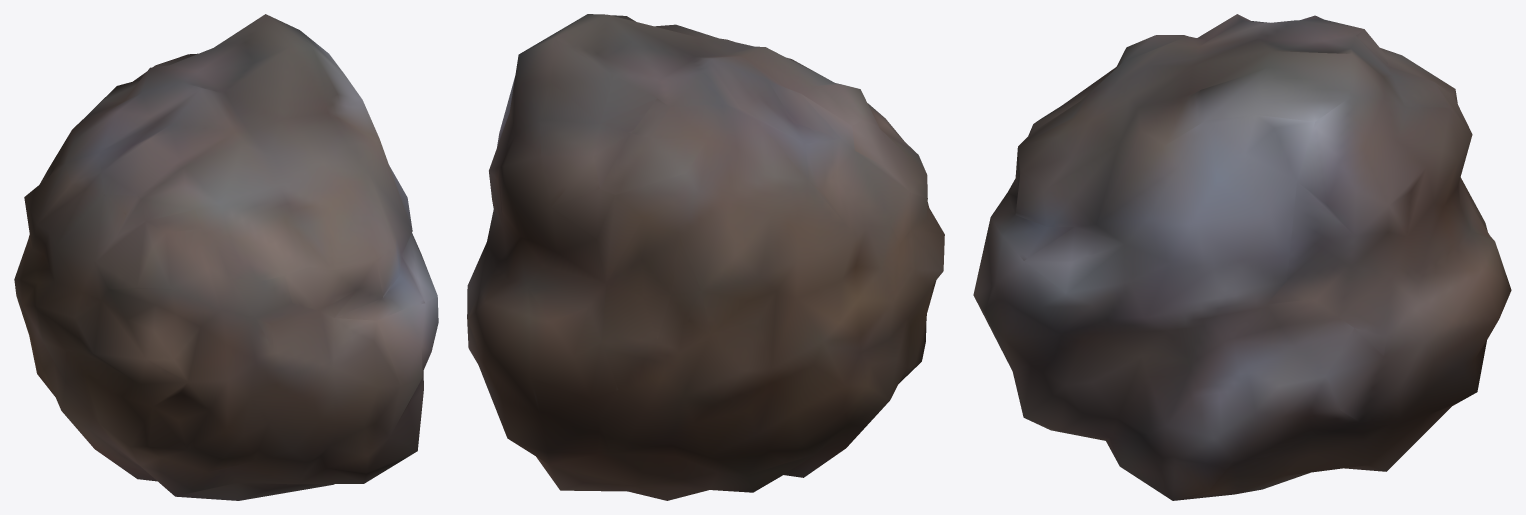
Rendered from silver_ore.glb.
3 renders of one model, left to right at view 1: azimuth 30°, elevation 25°; view 2: azimuth 150°, elevation 25°; view 3: azimuth 270°, elevation 25°, orthographic. The views are drawn at different scales.
Visible parts, largest first — view 1: model; view 2: model; view 3: model.
Part boxes in pixels (x1=…): model: x1=14, y1=14, x2=438, y2=500; model: x1=467, y1=14, x2=944, y2=500; model: x1=973, y1=14, x2=1511, y2=500.
Size of the model in its own units: 0.323 by 0.3658 by 0.3982.
Materials: 1 (1 with a texture image).
